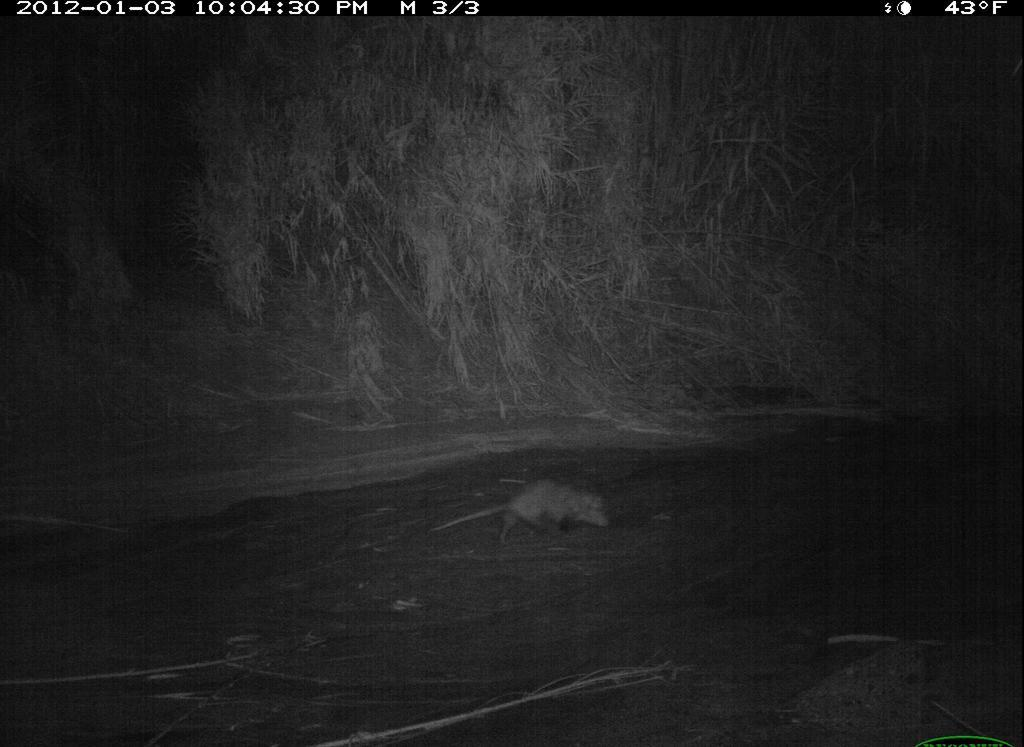opossum: (423, 477, 612, 551)
